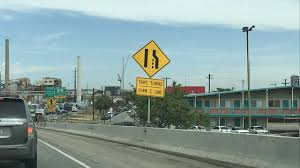laneEnds: (131, 39, 172, 77)
